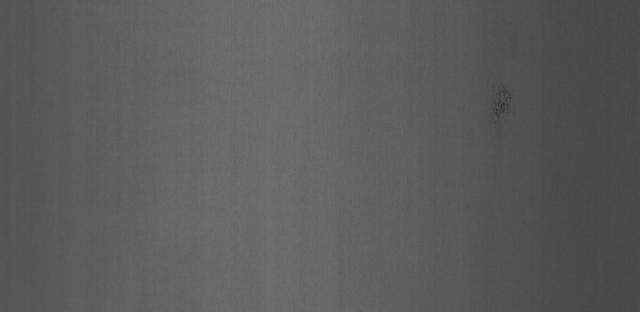inclusion: (484, 86, 520, 135)
